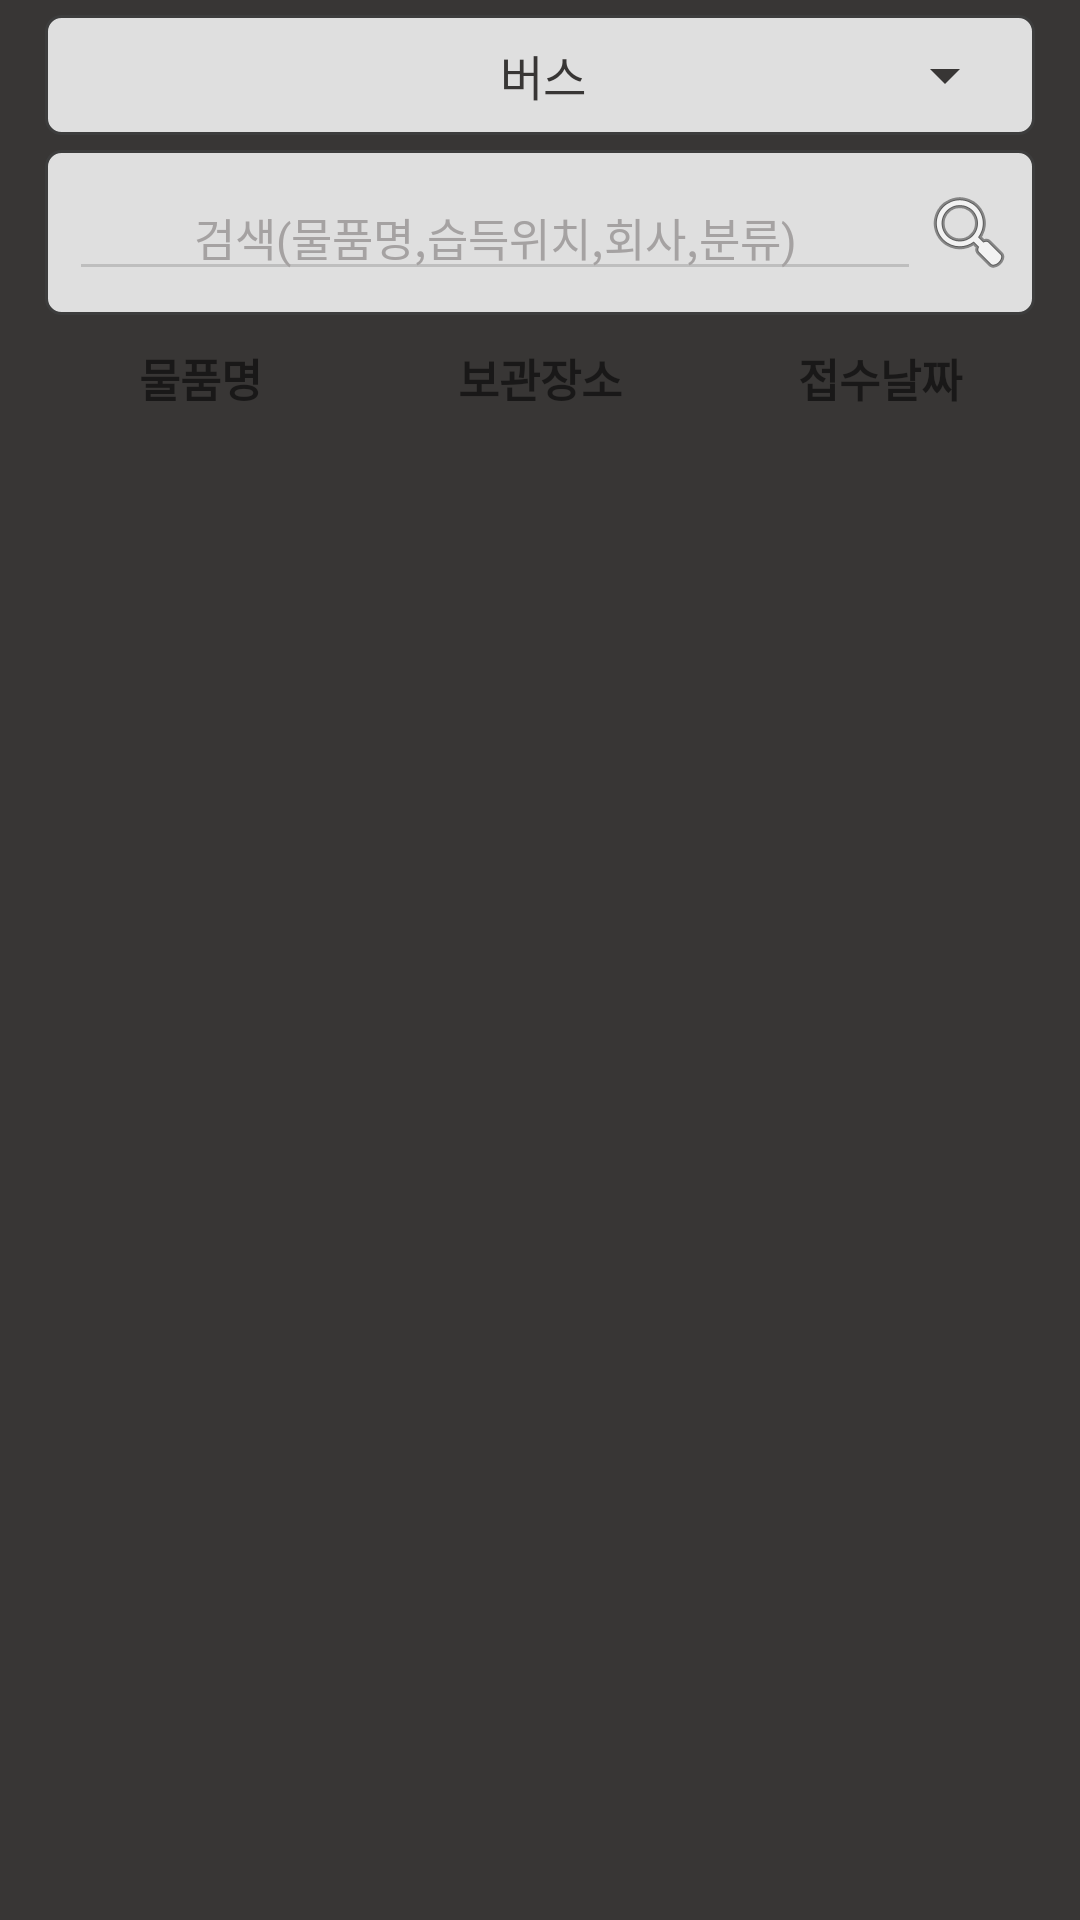

Where to tap for icons on this 1080x1920 app screen, as (x=x, y=y):
search: (x=969, y=232)
